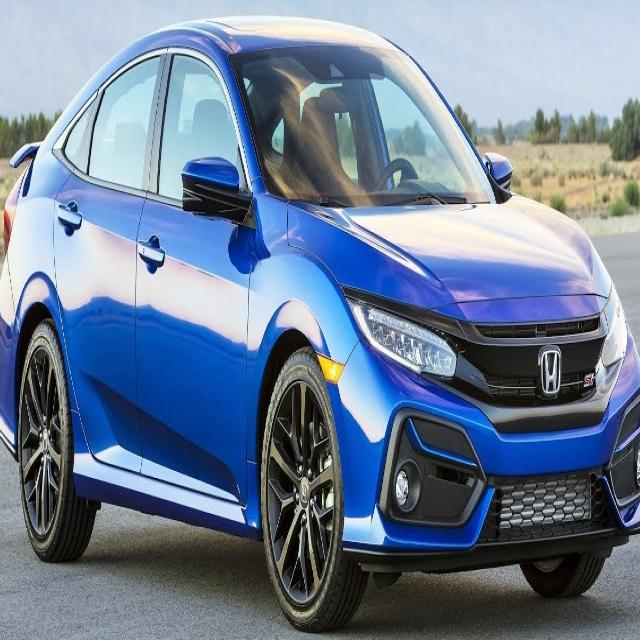blue: (0, 4, 640, 580)
